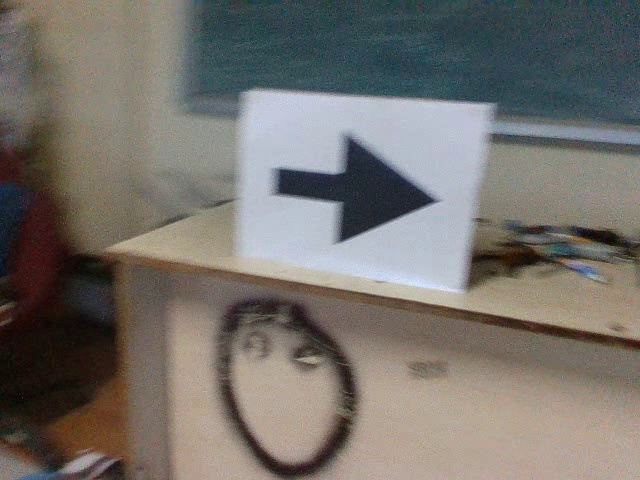Right: (259, 121, 447, 251)
